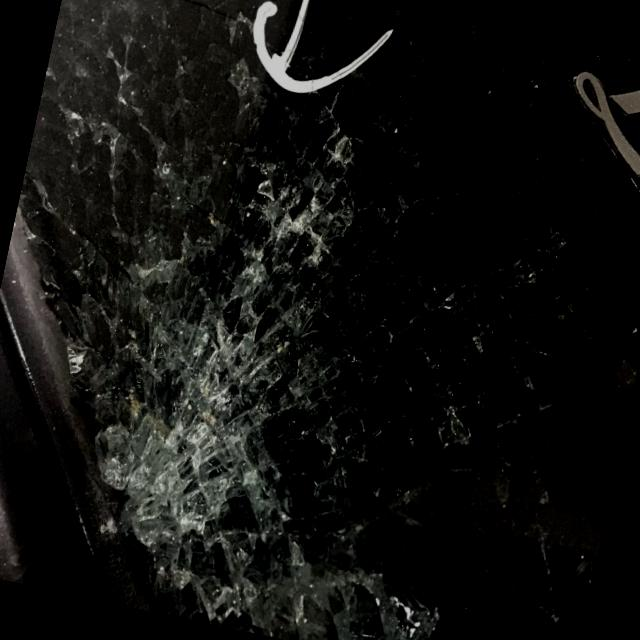Fissure: (74, 105, 398, 640), (288, 336, 498, 640), (389, 215, 576, 387)
